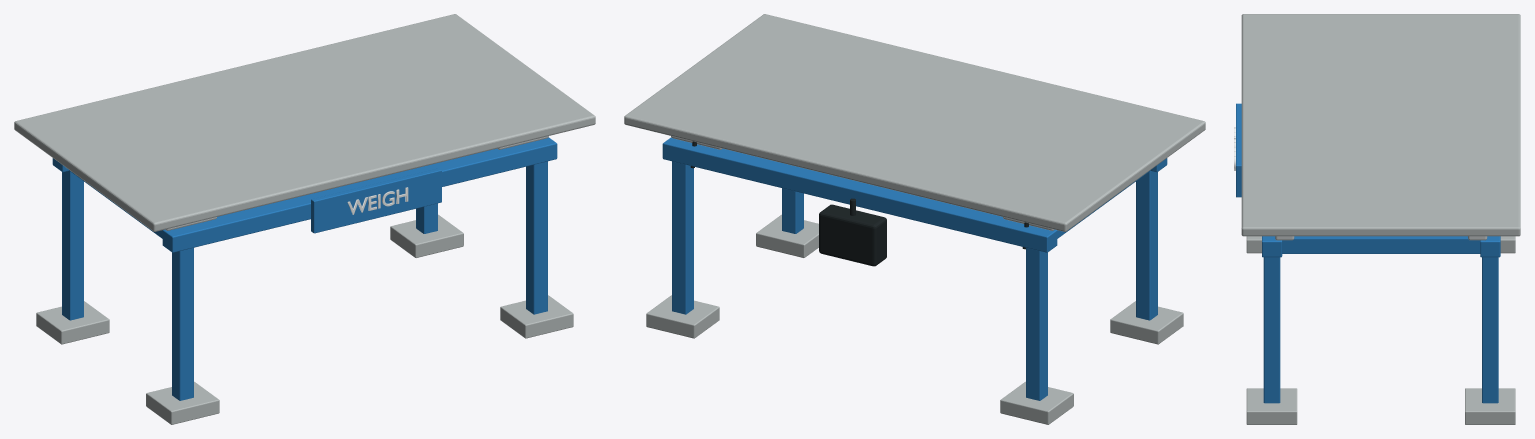
File: scale_load_cell_platform.glb
3 renders of one model, left to right at view 1: azimuth 30°, elevation 25°; view 2: azimuth 150°, elevation 25°; view 3: azimuth 270°, elevation 25°, orthographic.
Visible parts, largest first — view 1: SCALE_DECK_surface, SCALE_frame_-0.43, SCALE_nameplate, SCALE_leg_0.8_-0.43, SCALE_leg_-0.8_-0.43, SCALE_leg_-0.8_0.43, SCALE_foot_0.8_-0.43, SCALE_foot_-0.8_0.43, SCALE_foot_0.8_0.43, SCALE_foot_-0.8_-0.43, SCALE_leg_0.8_0.43, SCALE_label; view 2: SCALE_DECK_surface, SCALE_frame_0.43, SCALE_junction_box, SCALE_leg_-0.8_0.43, SCALE_leg_0.8_0.43, SCALE_leg_-0.8_-0.43, SCALE_foot_0.8_0.43, SCALE_foot_-0.8_-0.43, SCALE_foot_-0.8_0.43, SCALE_foot_0.8_-0.43, SCALE_leg_0.8_-0.43; view 3: SCALE_DECK_surface, SCALE_crossbar_0.8, SCALE_leg_0.8_-0.43, SCALE_leg_0.8_0.43, SCALE_foot_0.8_-0.43, SCALE_foot_0.8_0.43, SCALE_nameplate, SCALE_frame_0.43, SCALE_frame_-0.43, SCALE_foot_-0.8_-0.43, SCALE_foot_-0.8_0.43.
Part boxes in pixels (x1,y1,x2,y2): SCALE_DECK_surface: [14, 14, 595, 231]; SCALE_frame_-0.43: [162, 137, 557, 252]; SCALE_nameplate: [311, 168, 441, 233]; SCALE_leg_0.8_-0.43: [526, 143, 547, 314]; SCALE_leg_-0.8_-0.43: [172, 229, 193, 400]; SCALE_leg_-0.8_0.43: [62, 171, 83, 320]; SCALE_foot_0.8_-0.43: [500, 295, 573, 338]; SCALE_foot_-0.8_0.43: [36, 301, 109, 344]; SCALE_foot_0.8_0.43: [390, 214, 463, 257]; SCALE_foot_-0.8_-0.43: [146, 381, 219, 424]; SCALE_leg_0.8_0.43: [416, 203, 437, 233]; SCALE_label: [347, 187, 408, 214]; SCALE_DECK_surface: [624, 14, 1205, 231]; SCALE_frame_0.43: [662, 137, 1057, 252]; SCALE_junction_box: [819, 204, 886, 266]; SCALE_leg_-0.8_0.43: [1026, 228, 1047, 400]; SCALE_leg_0.8_0.43: [672, 143, 693, 314]; SCALE_leg_-0.8_-0.43: [1136, 171, 1157, 320]; SCALE_foot_0.8_0.43: [646, 295, 719, 338]; SCALE_foot_-0.8_-0.43: [1110, 301, 1183, 344]; SCALE_foot_-0.8_0.43: [1000, 381, 1073, 424]; SCALE_foot_0.8_-0.43: [756, 214, 818, 257]; SCALE_leg_0.8_-0.43: [782, 188, 803, 233]; SCALE_DECK_surface: [1241, 14, 1520, 236]; SCALE_crossbar_0.8: [1272, 236, 1492, 253]; SCALE_leg_0.8_-0.43: [1263, 257, 1280, 403]; SCALE_leg_0.8_0.43: [1482, 257, 1498, 403]; SCALE_foot_0.8_-0.43: [1246, 388, 1297, 424]; SCALE_foot_0.8_0.43: [1465, 388, 1515, 424]; SCALE_nameplate: [1236, 103, 1241, 197]; SCALE_frame_0.43: [1480, 236, 1500, 257]; SCALE_frame_-0.43: [1262, 236, 1282, 257]; SCALE_foot_-0.8_-0.43: [1246, 236, 1261, 253]; SCALE_foot_-0.8_0.43: [1500, 236, 1515, 253].
Bounding box in the file's own units: 2 × 0.9 × 1.13.
